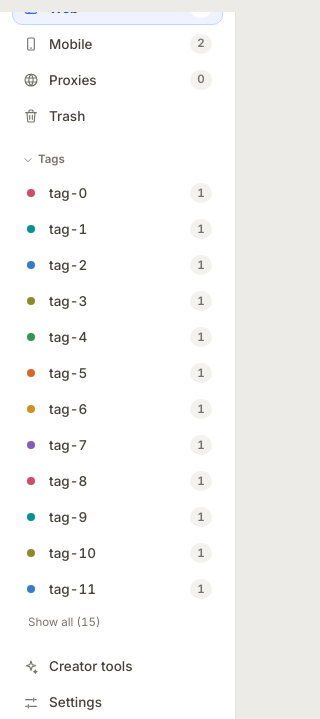
Test: Sidebar › shows twelve tags until asked for all
The width and height of the screenshot is (320, 719).
(page scrolled)
Expected: the button "tag-14" is not shown
Click the button "Show all (15)": point(118, 623) [22,610,213,636]
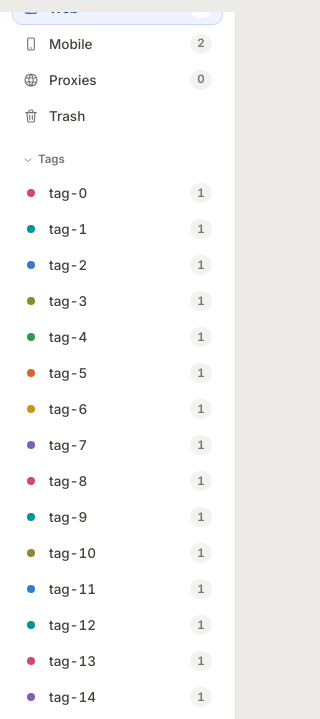
Now the button "tag-14 1" is shown, box [12,680,223,714]
